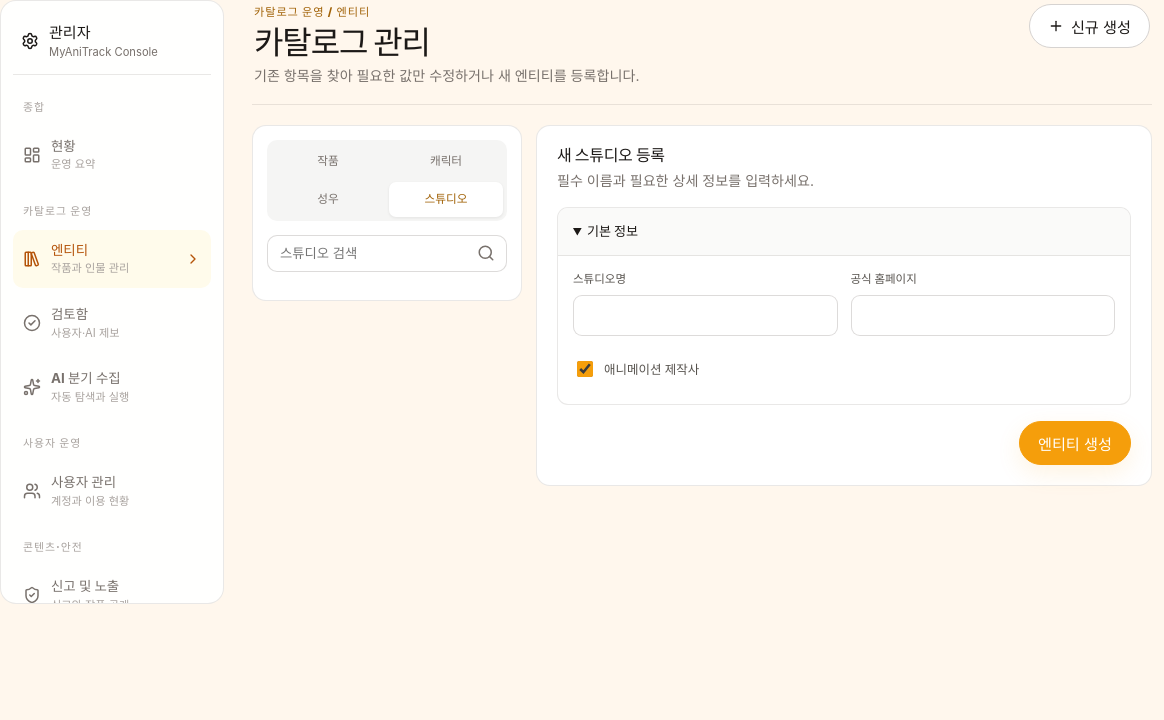
Test: admin console › loads the complete STUDIO source record after selecting a search result
Type "테스트 스튜디오" into the search field with placeholder "스튜디오 검색".
click(367, 253); type("테스트 스튜디오")  # box x1=268 y1=236 x2=466 y2=271
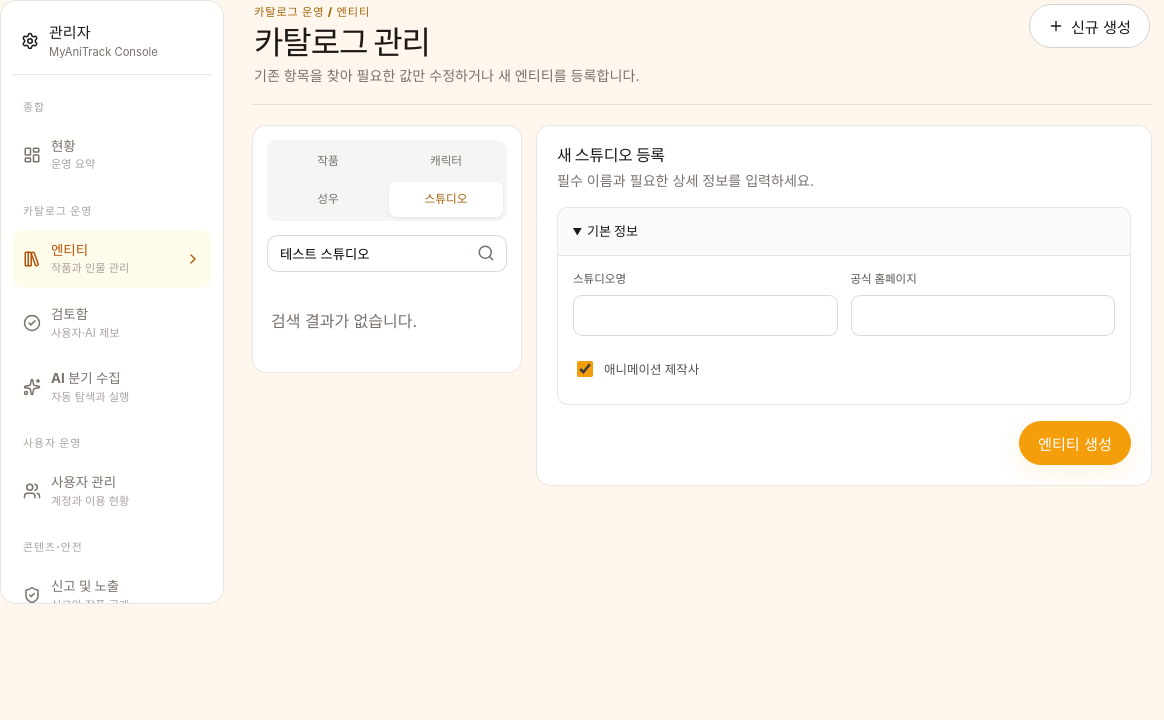
Click the button named "검색".
click(486, 253)  # box x1=466 y1=236 x2=506 y2=271
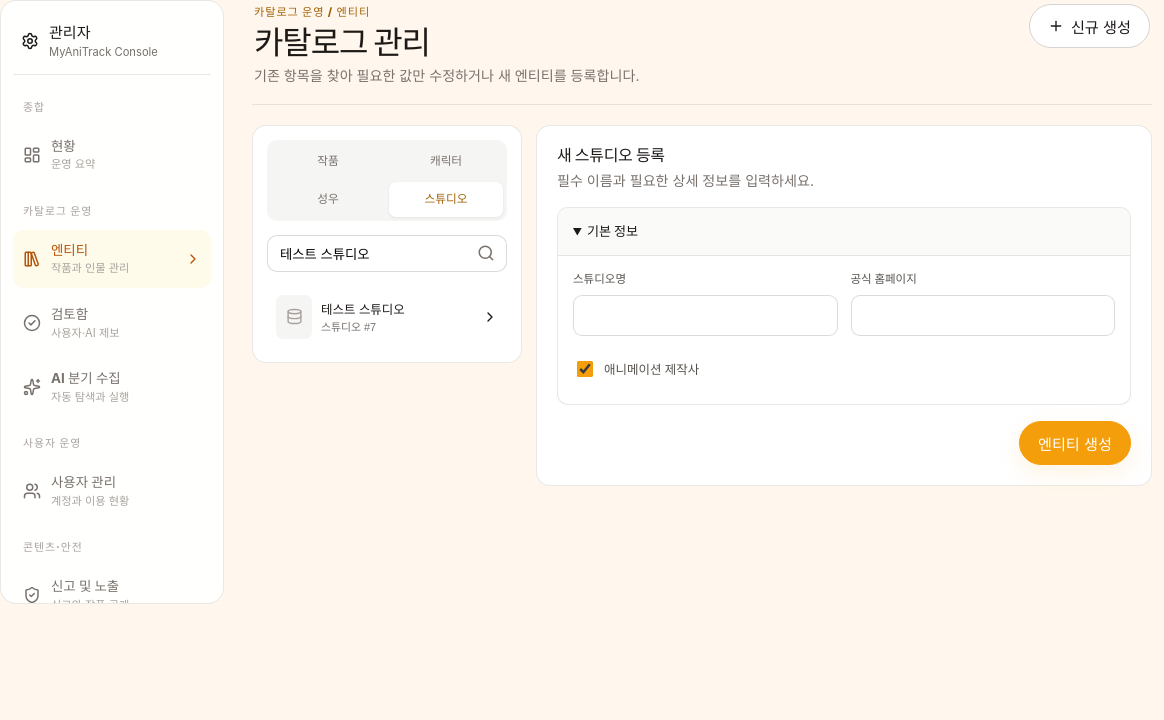
Click the button "테스트 스튜디오 스튜디오 #7".
click(387, 317)  # box x1=267 y1=286 x2=507 y2=348
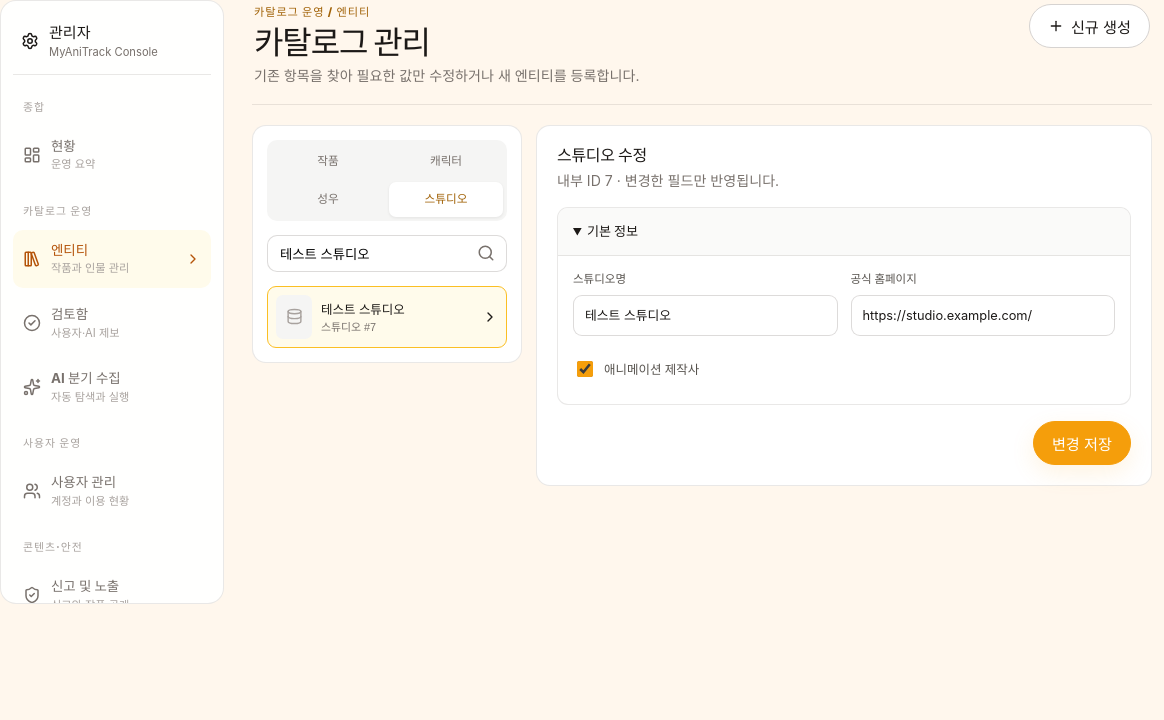
Expected: the text "내부 ID 7 · 변경한 필드만 반영됩니다." is shown, x1=557 y1=170 x2=779 y2=191
